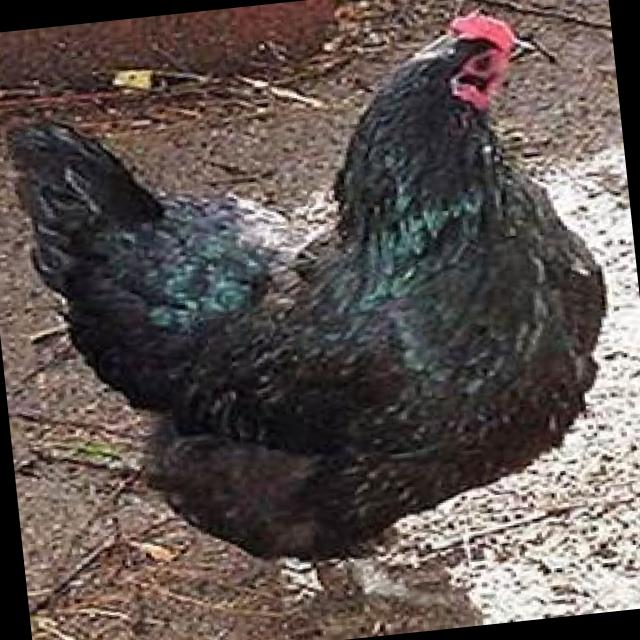chicken: (0, 0, 635, 631)
